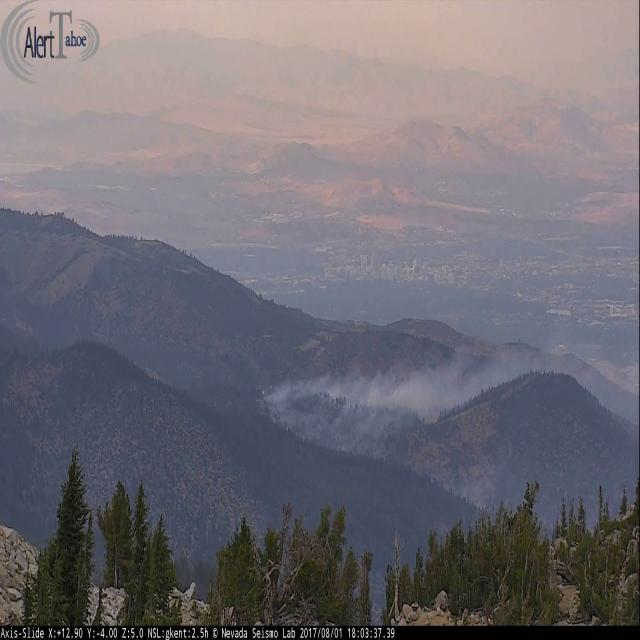smoke: (250, 328, 640, 452)
